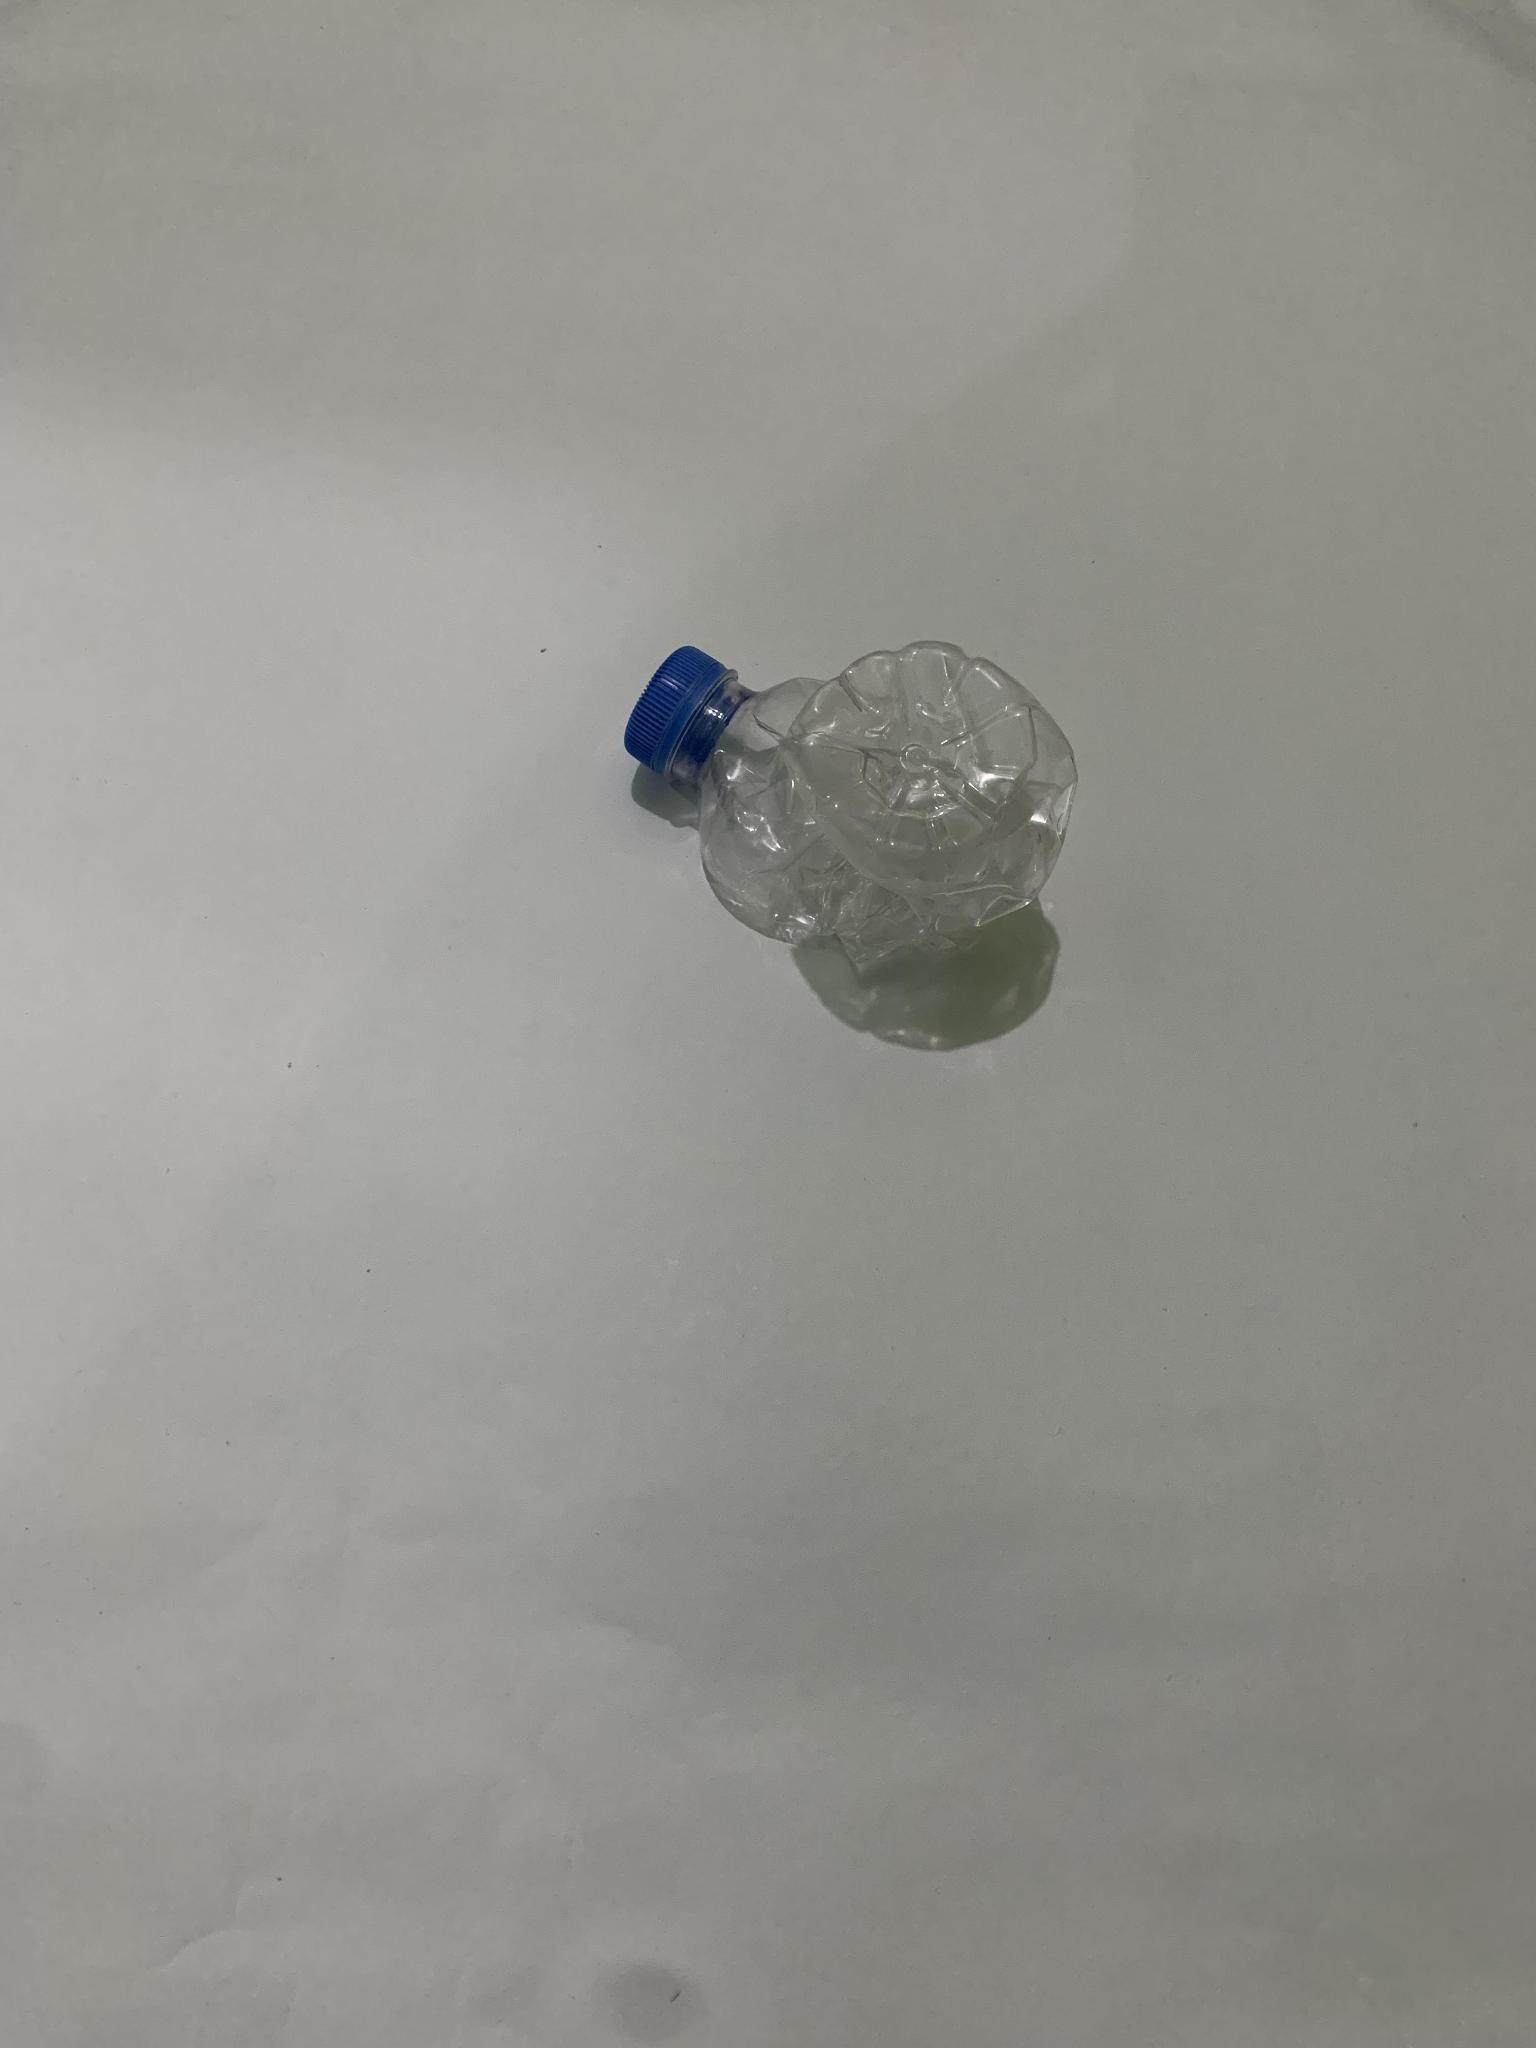bottle: (607, 550, 1126, 997)
